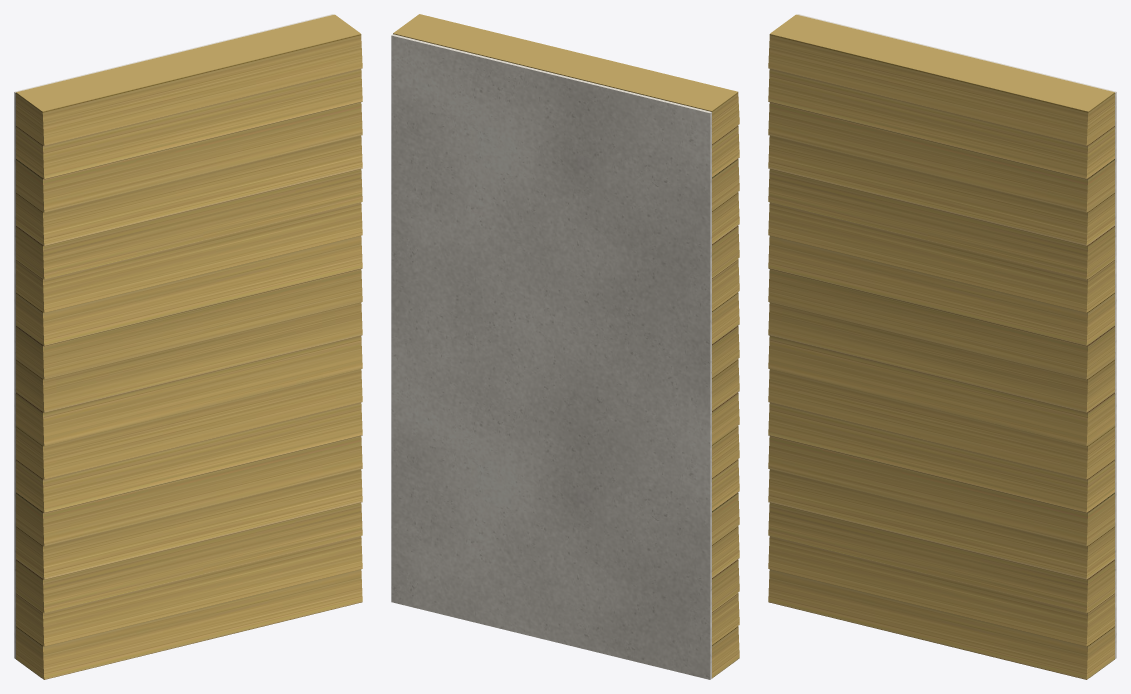
File: f_u_plain_a.glb
The picture shows the model from 3 angles, left to right: view 1: azimuth 30°, elevation 25°; view 2: azimuth 150°, elevation 25°; view 3: azimuth 330°, elevation 25°; orthographic projection.
Parts seen in each view (by area): view 1: f_u_plain_a_siding_a, f_u_plain_a_plaster; view 2: f_u_plain_a_plaster, f_u_plain_a_siding_a; view 3: f_u_plain_a_siding_a, f_u_plain_a_plaster.
Part boxes in pixels (<box>): f_u_plain_a_siding_a: <box>16,14,362,679</box>; f_u_plain_a_plaster: <box>14,14,333,658</box>; f_u_plain_a_plaster: <box>391,34,711,679</box>; f_u_plain_a_siding_a: <box>393,14,739,678</box>; f_u_plain_a_siding_a: <box>768,14,1114,679</box>; f_u_plain_a_plaster: <box>797,14,1116,658</box>.
Bounding box in the file's own units: 2 × 3.4 × 0.324.
2 materials, 2 textured.
